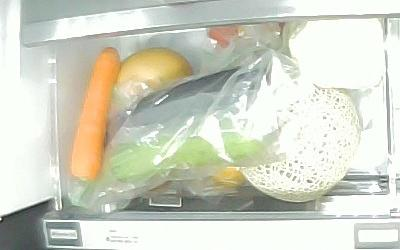cabbage: (285, 18, 387, 88)
carrot: (70, 47, 120, 182)
eggplant_vinyl: (125, 64, 261, 127)
melon: (235, 77, 362, 204)
pear: (113, 47, 194, 110)
zucchini_vinyl: (107, 131, 265, 187)
